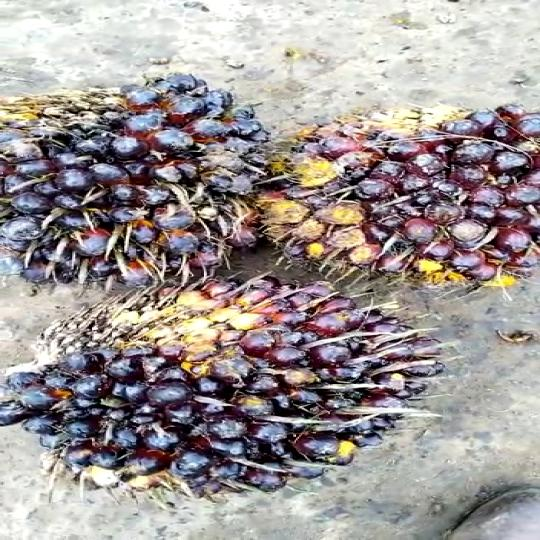mentah: (14, 270, 439, 502), (0, 75, 279, 290), (283, 93, 540, 304)
